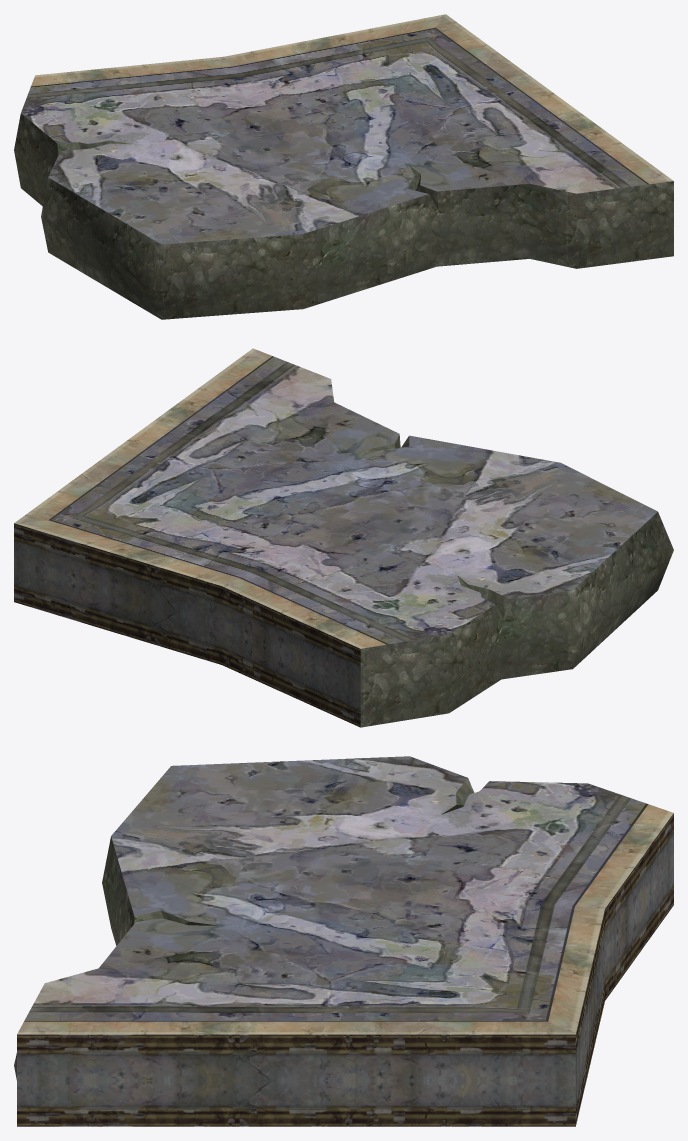
The model's file is bel_arch_rakata_raid_infernal_platform_piece02.glb.
The picture shows the model from 3 angles, top to bottom: view 1: azimuth 30°, elevation 25°; view 2: azimuth 150°, elevation 25°; view 3: azimuth 270°, elevation 25°; orthographic projection. The views are drawn at different scales.
Parts seen in each view (by area): view 1: bel_arch_rakata_raid_infernal_platform_piece02; view 2: bel_arch_rakata_raid_infernal_platform_piece02; view 3: bel_arch_rakata_raid_infernal_platform_piece02.
Boxes of the visible parts, x1,y1,x2,y2 form: bel_arch_rakata_raid_infernal_platform_piece02: (14,14,673,319); bel_arch_rakata_raid_infernal_platform_piece02: (14,348,673,727); bel_arch_rakata_raid_infernal_platform_piece02: (14,756,673,1126).
Bounding box in the file's own units: 1.32 × 0.2 × 1.3.
Materials: 3 (3 with a texture image).
